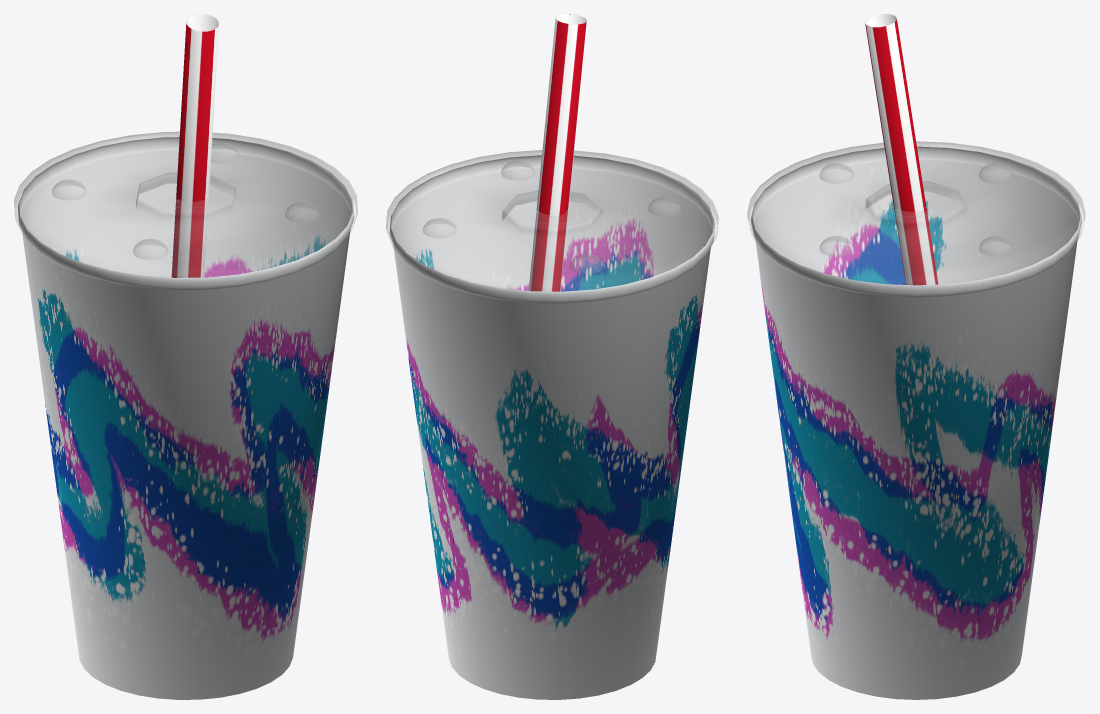
File: paper soda cup.glb
The picture shows the model from 3 angles, left to right: view 1: azimuth 30°, elevation 25°; view 2: azimuth 150°, elevation 25°; view 3: azimuth 270°, elevation 25°; orthographic projection. The views are drawn at different scales.
Parts seen in each view (by area): view 1: cup, lid, straw; view 2: cup, lid, straw; view 3: cup, lid, straw.
Part boxes in pixels (box(x1,y1,x2,y2)): cup: box(17, 137, 354, 699); lid: box(14, 132, 357, 285); straw: box(171, 14, 218, 277); cup: box(389, 155, 715, 699); lid: box(386, 150, 718, 298); straw: box(528, 14, 586, 291); cup: box(751, 146, 1081, 699); lid: box(747, 141, 1085, 292); straw: box(865, 14, 938, 285).
Bounding box in the file's own units: 0.1203 × 0.2494 × 0.1203.
Materials: 3 (2 with a texture image).
